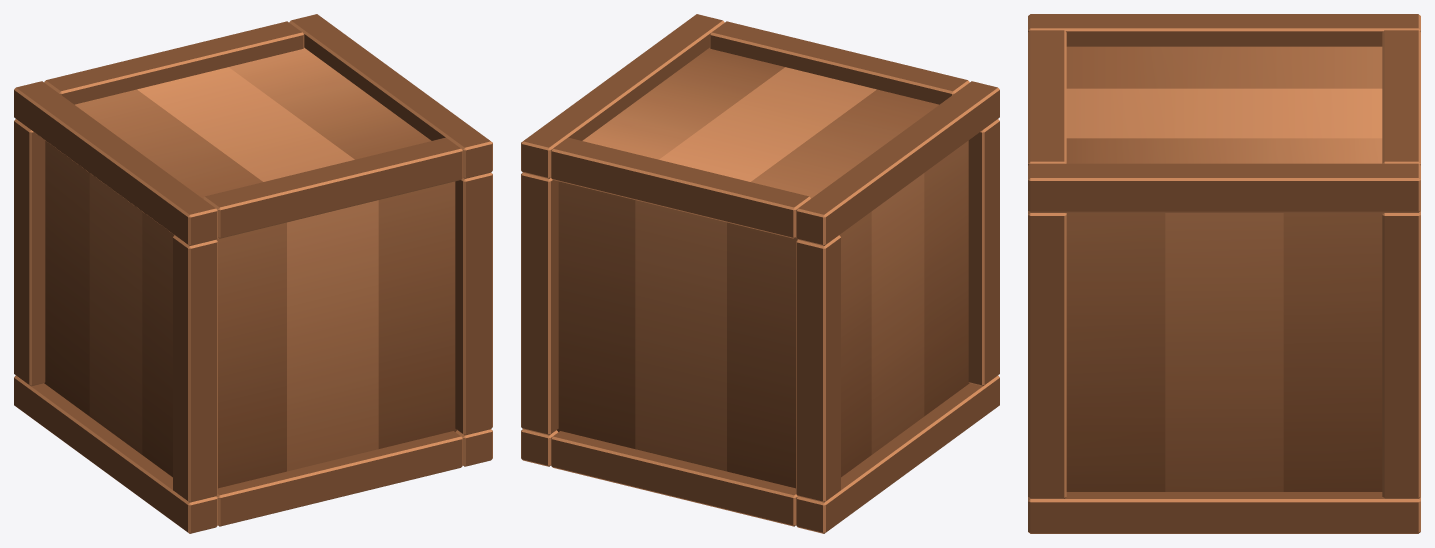
Rendered from mt_prop_box01.fbx.
The picture shows the model from 3 angles, left to right: view 1: azimuth 30°, elevation 25°; view 2: azimuth 150°, elevation 25°; view 3: azimuth 270°, elevation 25°; orthographic projection. The views are drawn at different scales.
Visible parts, largest first — view 1: prop_box01; view 2: prop_box01; view 3: prop_box01.
Part boxes in pixels (x1,y1,x2,y2): prop_box01: (14,14,492,533); prop_box01: (521,14,999,533); prop_box01: (1028,14,1420,533).
Size of the model in its own units: 77.61 by 77.61 by 77.61.
